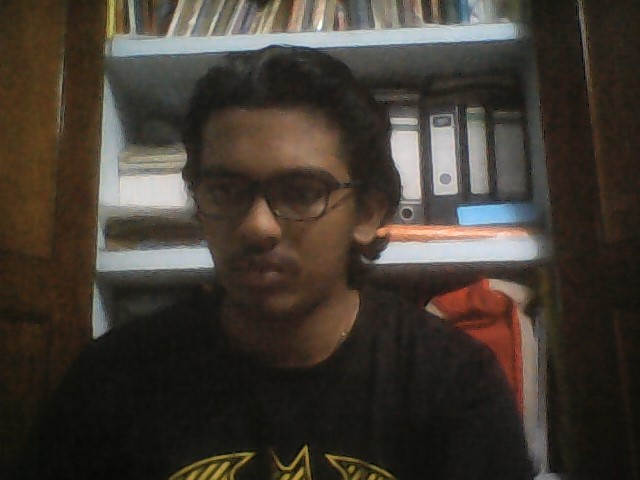person: (59, 46, 506, 468)
